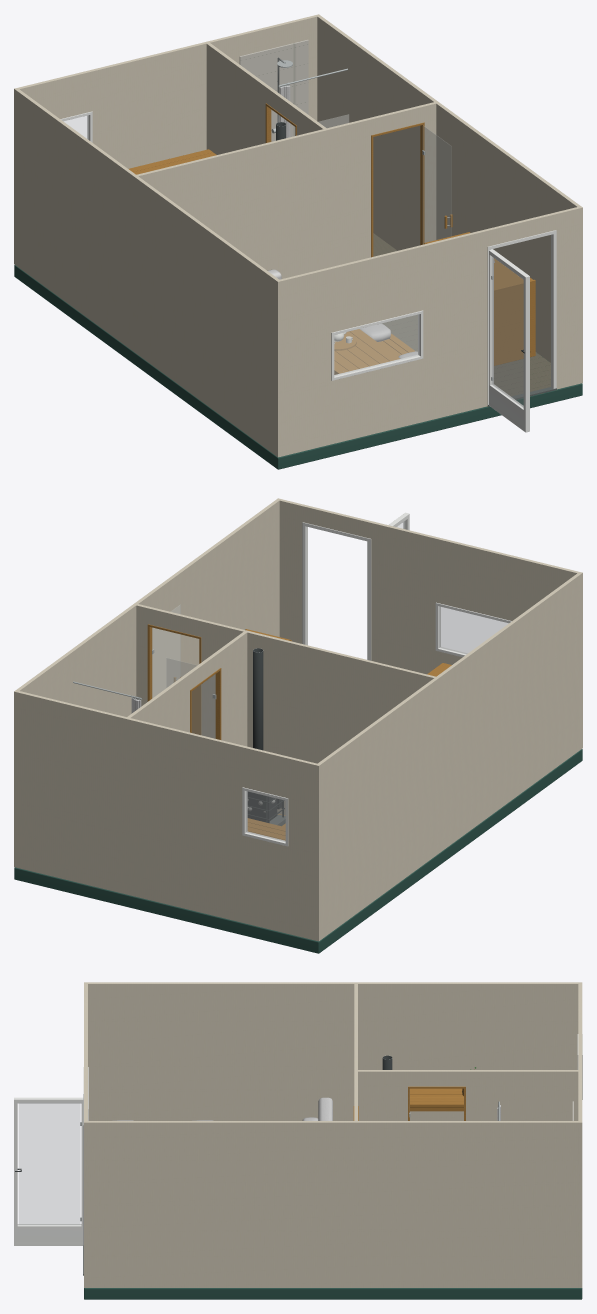
3 renders of one model, top to bottom at view 1: azimuth 30°, elevation 25°; view 2: azimuth 150°, elevation 25°; view 3: azimuth 270°, elevation 25°, orthographic. The views are drawn at different scales.
Visible parts, largest first — view 1: Wall left band 2, Foundation, Wall front band 2, Wall left band 5, Wall left band 6, Wall left band 4, Wall left band 7, Wall left band 1, Wall front band 6, Wall front band 7, Wall front band 8, Wall front band 1 (+41 smaller); view 2: Wall rear band 2, Wall rear band 7, Wall rear band 4, Foundation, Wall rear band 1, Wall left band 2, Wall rear band 5, Wall rear band 6, Wall left band 5, Wall left band 6, Wall left band 4, Wall left band 7 (+34 smaller); view 3: Wall right band 2, Wall right band 5, Wall right band 7, Wall right band 4, Wall right band 6, Wall left band 7, Wall left band 6, Wall left band 5, Wall right band 1, Wall right band 8, Wall left band 8, Single PVC glass panel (+16 smaller).
Boxes of the visible parts, x1,y1,x2,y2 form: Wall left band 2: (16,206,275,421); Foundation: (14,265,582,469); Wall front band 2: (276,323,582,423); Wall left band 5: (16,154,275,367); Wall left band 6: (16,130,275,343); Wall left band 4: (16,178,275,391); Wall left band 7: (16,106,275,319); Wall left band 1: (16,232,275,444); Wall front band 6: (276,247,582,345); Wall front band 7: (276,223,582,321); Wall front band 8: (276,206,582,297); Wall front band 1: (276,349,582,446); Wall rear band 2: (14,807,320,907); Wall rear band 7: (14,707,320,805); Wall rear band 4: (14,779,320,877); Foundation: (14,749,582,953); Wall rear band 1: (14,833,320,930); Wall left band 2: (321,690,580,905); Wall rear band 5: (14,755,320,853); Wall rear band 6: (14,731,320,829); Wall left band 5: (321,638,580,851); Wall left band 6: (321,614,580,827); Wall left band 4: (321,662,580,875); Wall left band 7: (321,590,580,803); Wall right band 2: (88,1231,578,1256); Wall right band 5: (88,1182,578,1205); Wall right band 7: (88,1137,578,1160); Wall right band 4: (88,1205,578,1227); Wall right band 6: (88,1160,578,1182); Wall left band 7: (88,999,578,1021); Wall left band 6: (88,1021,578,1043); Wall left band 5: (88,1044,577,1066); Wall right band 1: (88,1256,578,1277); Wall right band 8: (88,1121,578,1137); Wall left band 8: (88,982,578,998); Single PVC glass panel: (19,1103,80,1224).
Size of the model in its own units: 4 by 2.36 by 6.85.
35 materials, 16 textured.
